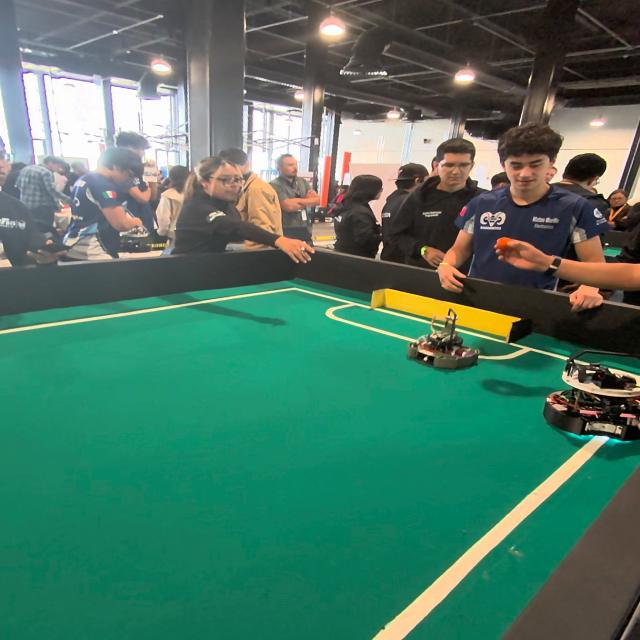Robot: (547, 348, 640, 446), (405, 304, 476, 373)
